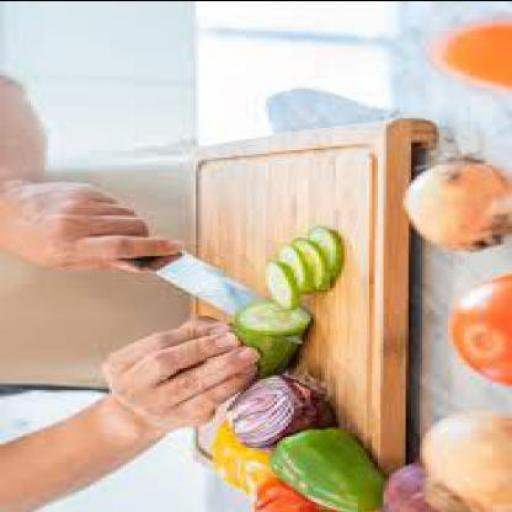biodegradable: (263, 424, 386, 510), (403, 152, 509, 248), (420, 412, 509, 510), (229, 372, 333, 445), (445, 272, 509, 384), (440, 19, 510, 86), (210, 419, 274, 492), (238, 328, 299, 386), (386, 462, 442, 510), (252, 477, 330, 510), (286, 237, 332, 289), (238, 300, 308, 332), (274, 236, 311, 290), (304, 222, 342, 273), (266, 264, 294, 306)
metal: (151, 248, 260, 312), (280, 330, 300, 341)
